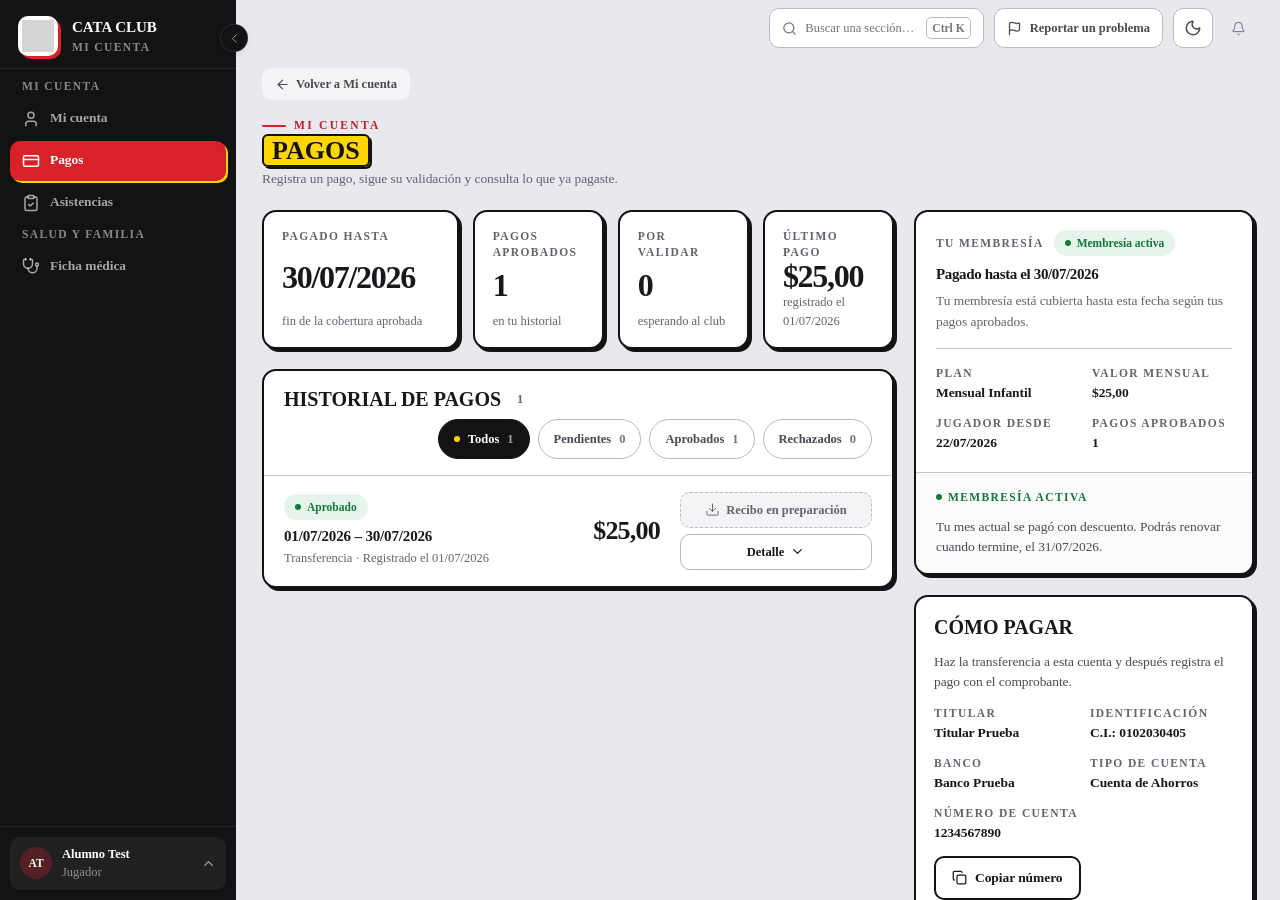
Test: StudentPaymentsPage — el descuento que el club ya aplicó › omits the percentage when the discount was a fixed amount
Expected: the list with test id "student-payments-table" is shown, [264,475,892,586]
Click the button "Detalle" at (776, 552), box [680,534,872,570]
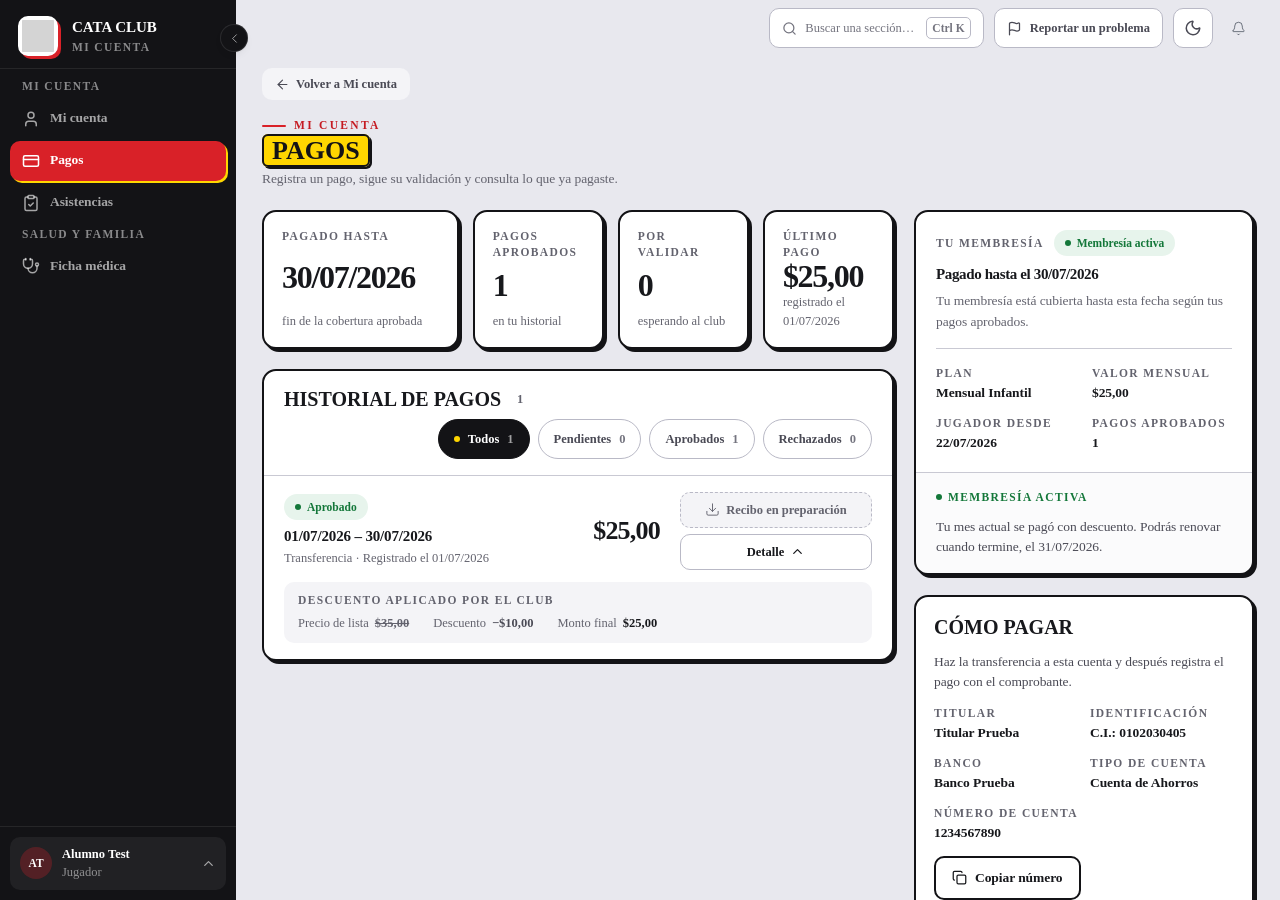
Now the text "−$10,00" is shown, box [492,614,534,633]
